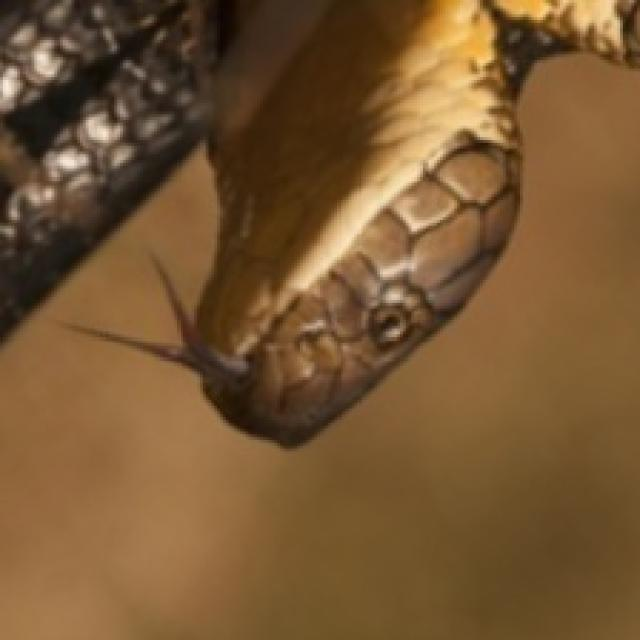king cobra: (94, 0, 637, 443), (106, 0, 637, 443), (0, 0, 209, 331)
